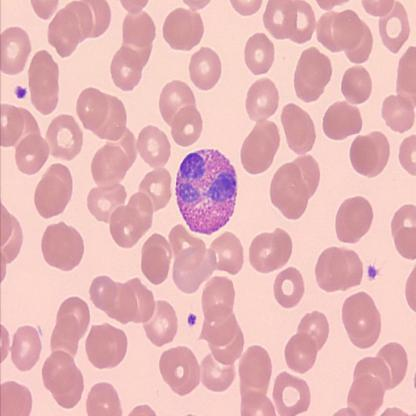Eosinophil: (176, 150, 238, 239)
